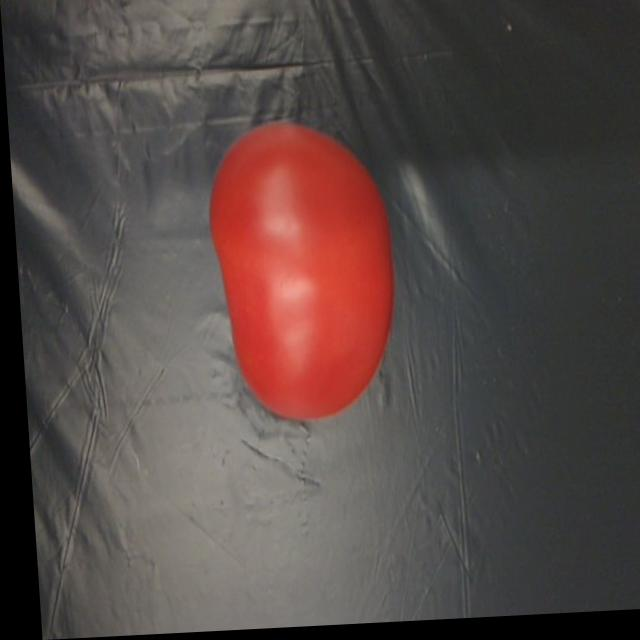kirmizi: (202, 105, 398, 430)
